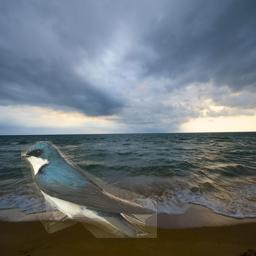Swallow: (21, 141, 157, 238)
